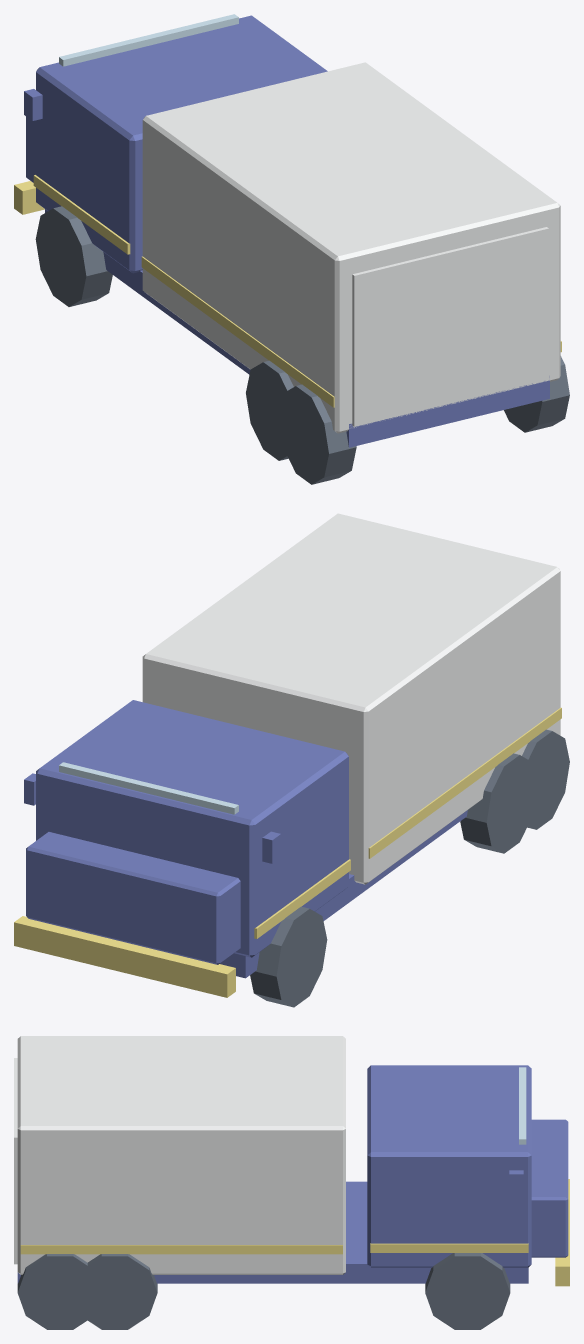
The model's file is truck_01.glb.
The picture shows the model from 3 angles, top to bottom: view 1: azimuth 30°, elevation 25°; view 2: azimuth 150°, elevation 25°; view 3: azimuth 270°, elevation 25°; orthographic projection. The views are drawn at different scales.
Parts seen in each view (by area): view 1: truck_01; view 2: truck_01; view 3: truck_01.
Boxes of the visible parts, x1=… form: truck_01: x1=14, y1=14, x2=569, y2=484; truck_01: x1=14, y1=513, x2=569, y2=1007; truck_01: x1=14, y1=1036, x2=569, y2=1329.
Size of the model in its own units: 1.98 by 1.81 by 4.57.
